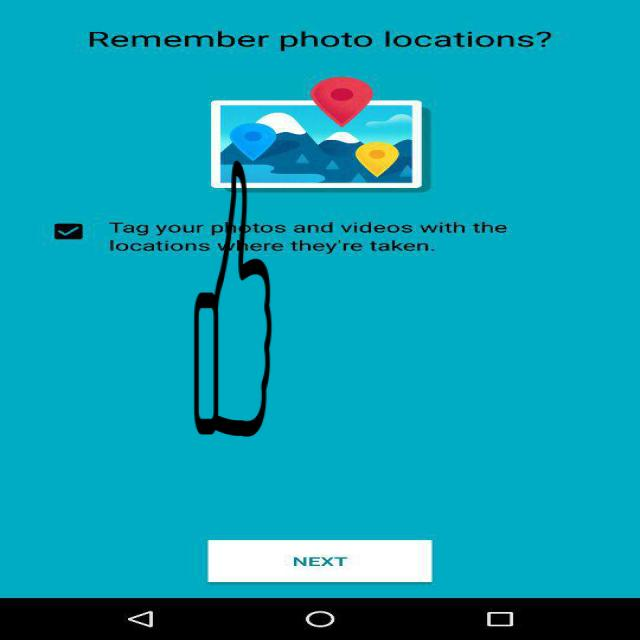privacy zuckering: (193, 160, 273, 437)
